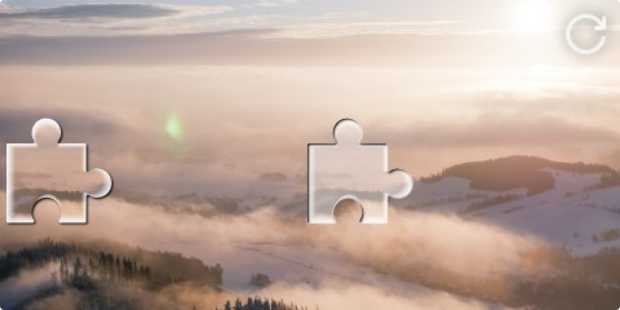target: (307, 118, 413, 224)
